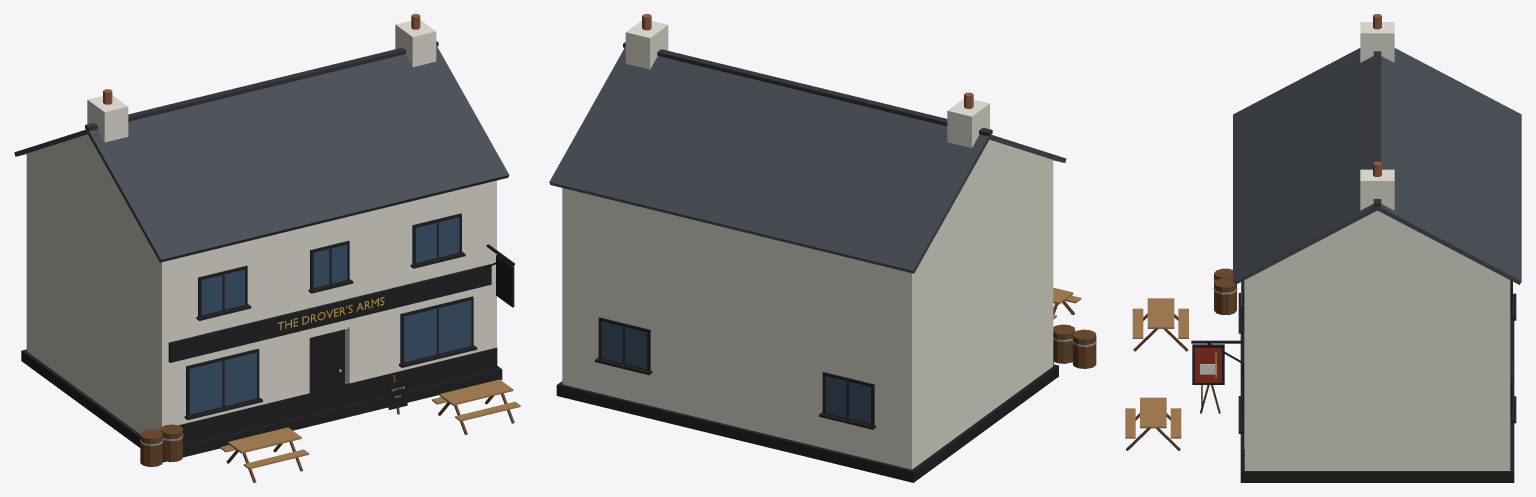
Rendered from village.pub.glb.
3 renders of one model, left to right at view 1: azimuth 30°, elevation 25°; view 2: azimuth 150°, elevation 25°; view 3: azimuth 270°, elevation 25°, orthographic. The views are drawn at different scales.
Parts seen in each view (by area): view 1: roof-f, w-side-1, w-front-l, w-front-r, fascia, skirt, roof-gable-1, plinth, bay3.2-glass, bay-3.2-glass, roof-ridge, w-over-door (+17 smaller); view 2: w-back, roof-b, w-side-1, plinth, roof-gable-1, roof-ridge, back3.2-glass, back-3.2-glass, chimney1, chimney-1, w-front-l, barrel0 (+3 smaller); view 3: w-side1, roof-f, roof-b, roof-gable1, plinth, w-back, w-front-r, chimney1, chimney-1, roof-ridge, table-l-top, table-r-top (+2 smaller).
Part boxes in pixels (x1,y1,x2,y2): roof-f: [86, 46, 509, 262]; w-side-1: [31, 160, 157, 434]; w-front-l: [157, 226, 309, 430]; w-front-r: [345, 180, 496, 384]; fascia: [168, 264, 491, 362]; skirt: [178, 347, 497, 445]; roof-gable-1: [26, 134, 161, 263]; plinth: [21, 349, 502, 462]; bay3.2-glass: [404, 300, 471, 362]; bay-3.2-glass: [189, 352, 256, 414]; roof-ridge: [85, 41, 438, 131]; w-over-door: [309, 216, 349, 336]; w-back: [562, 188, 916, 469]; roof-b: [549, 48, 989, 273]; w-side-1: [917, 166, 1048, 465]; plinth: [556, 364, 1058, 482]; roof-gable-1: [912, 139, 1053, 274]; roof-ridge: [623, 42, 992, 136]; back3.2-glass: [601, 321, 646, 369]; back-3.2-glass: [825, 376, 870, 423]; chimney1: [625, 20, 668, 69]; chimney-1: [947, 99, 989, 147]; w-front-l: [1048, 162, 1053, 369]; barrel0: [1072, 329, 1096, 368]; w-side1: [1254, 278, 1500, 470]; roof-f: [1233, 48, 1379, 284]; roof-b: [1375, 48, 1521, 284]; roof-gable1: [1244, 210, 1509, 288]; plinth: [1240, 319, 1514, 482]; w-back: [1501, 278, 1510, 470]; w-front-r: [1244, 278, 1253, 470]; chimney1: [1360, 169, 1394, 210]; chimney-1: [1360, 22, 1394, 62]; roof-ridge: [1373, 51, 1381, 206]; table-l-top: [1147, 298, 1174, 328]; table-r-top: [1140, 397, 1166, 428].
Size of the model in its own units: 11.12 by 9.05 by 10.44.
